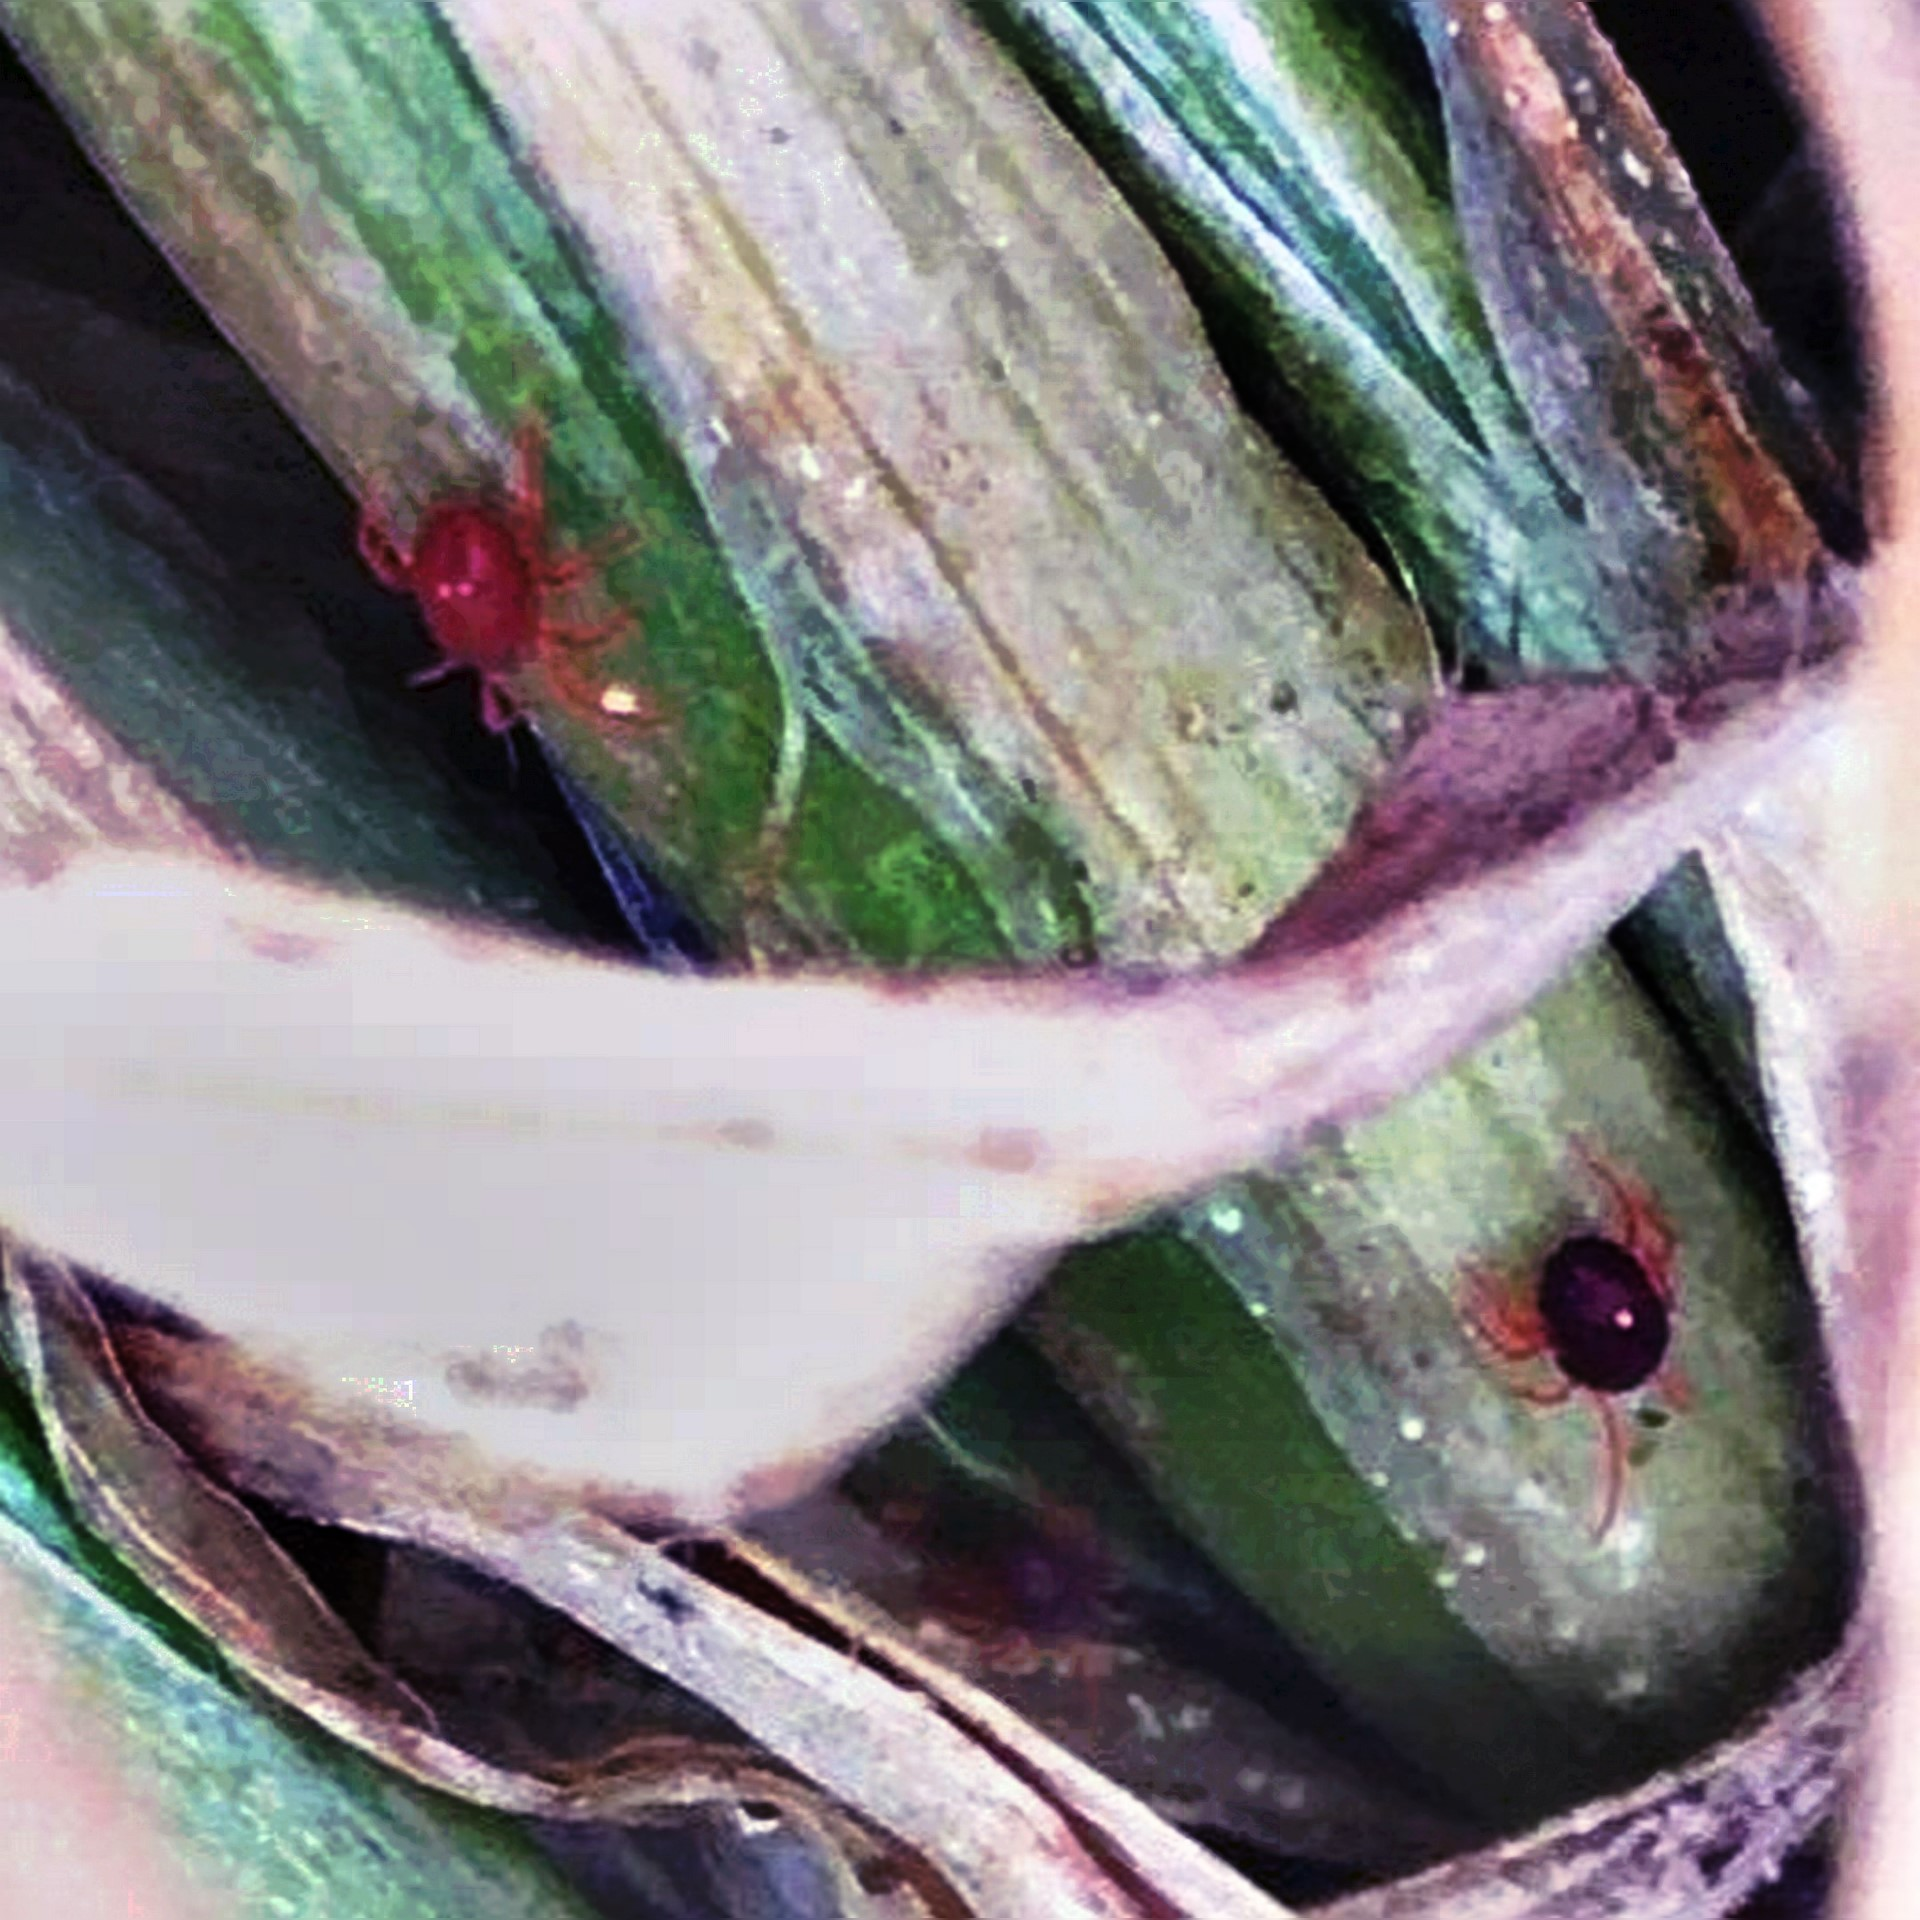Wheat Red Spider: (311, 424, 707, 774)
